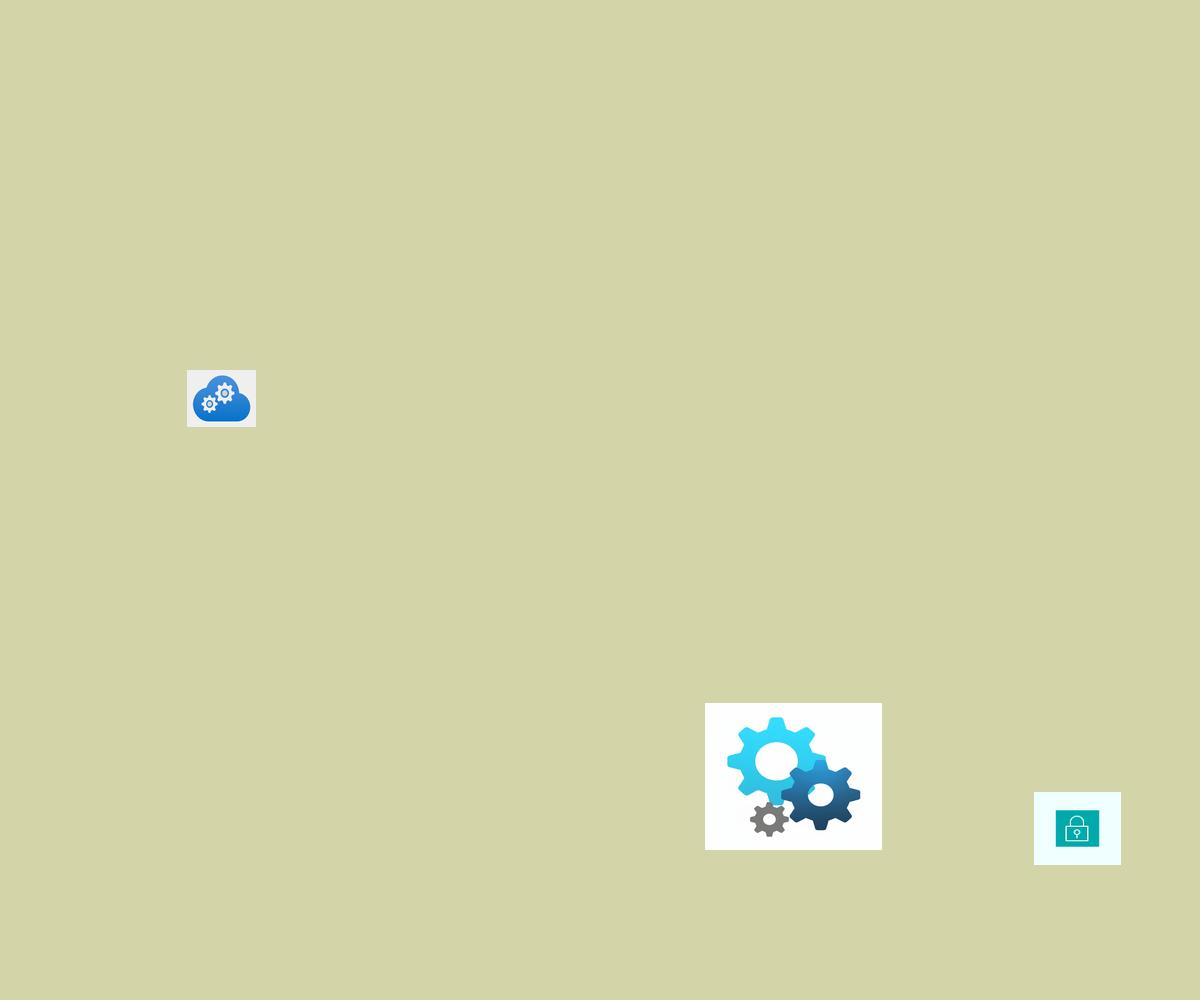AWS-Private-subnet: (1034, 792, 1121, 865)
Azure_api: (705, 703, 882, 850)
Azure_cloud_services: (187, 370, 256, 427)
